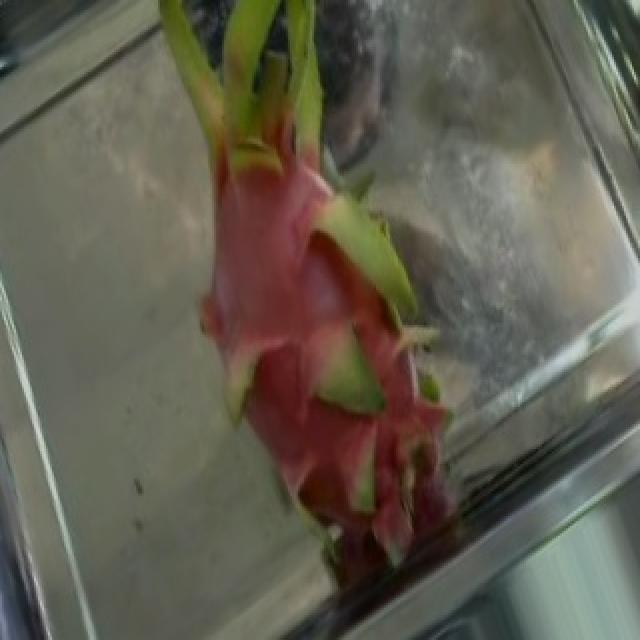fruit: (66, 0, 454, 469), (138, 223, 550, 635)
